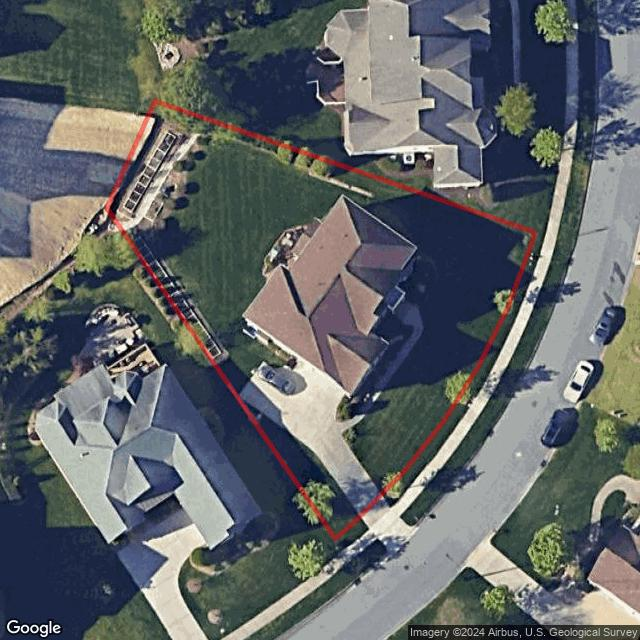Driveway: (238, 353, 383, 517)
Extra-Driveway: (359, 494, 414, 562)
Extra-Lawn: (400, 241, 574, 532), (381, 232, 547, 508), (352, 539, 388, 576), (335, 516, 370, 549)
Extra-Sidewalk: (390, 238, 556, 517), (343, 528, 379, 560)
House: (244, 196, 419, 395)
Lawn: (106, 101, 535, 539)
Other: (107, 101, 232, 366), (336, 309, 411, 421), (261, 224, 305, 279), (397, 251, 437, 307)
Sidewalk: (335, 295, 425, 434)
